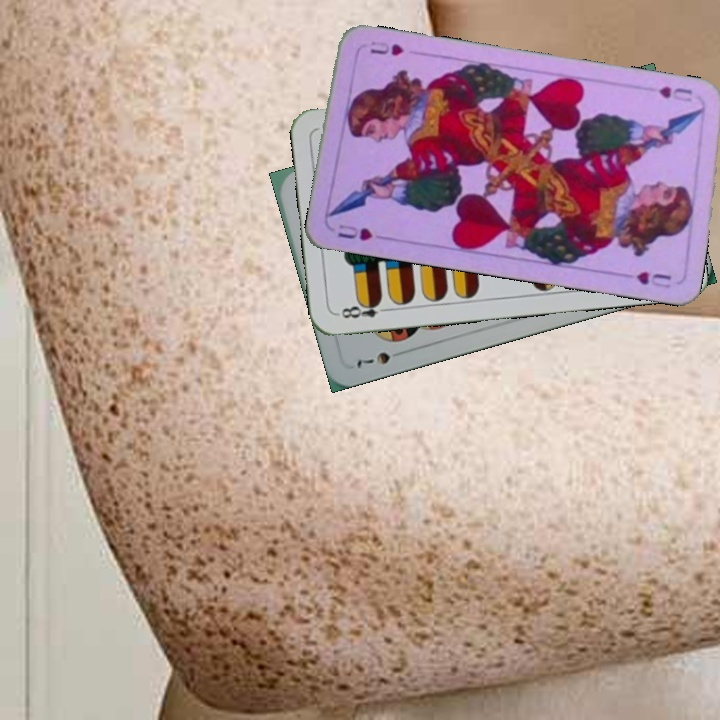E8: (334, 296, 393, 321)
HU: (334, 220, 389, 244), (655, 82, 695, 105)
S7: (352, 348, 394, 371)
